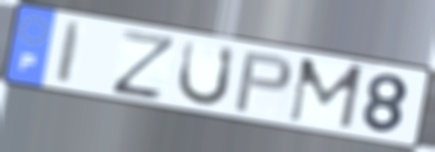8: (360, 73, 411, 135)
I: (53, 19, 87, 88)
M: (285, 56, 367, 132)
P: (231, 49, 295, 115)
U: (174, 38, 238, 108)
Z: (109, 27, 180, 103)
